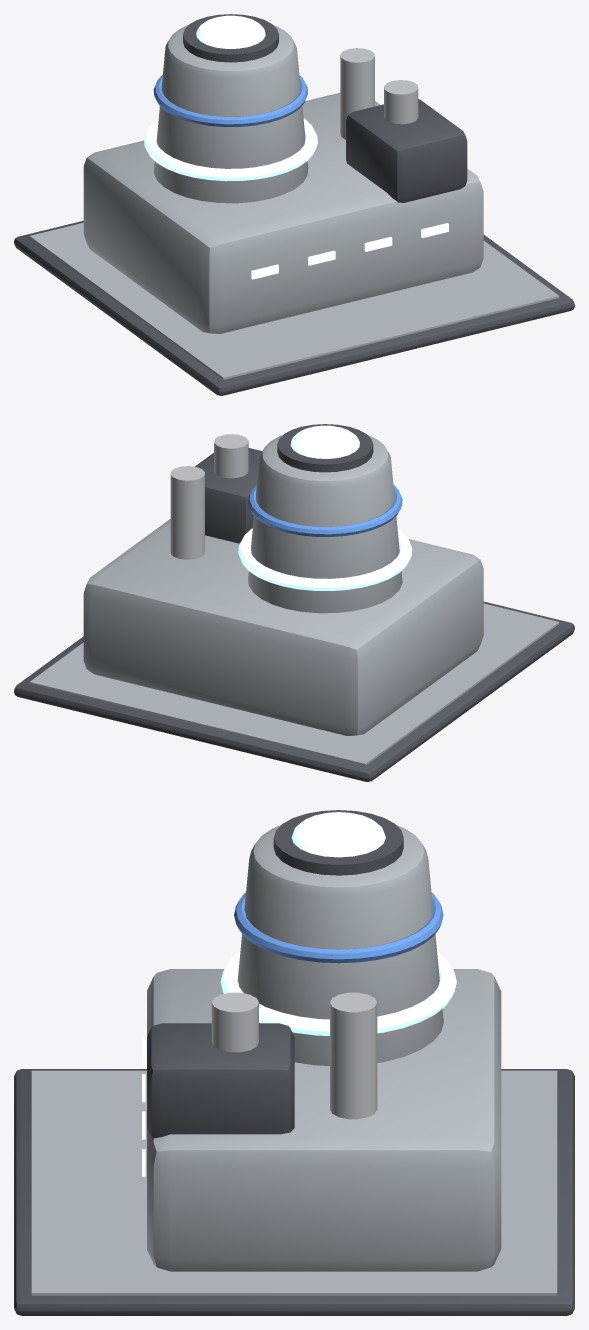
Rendered from power_hum.glb.
The picture shows the model from 3 angles, top to bottom: view 1: azimuth 30°, elevation 25°; view 2: azimuth 150°, elevation 25°; view 3: azimuth 270°, elevation 25°; orthographic projection. The views are drawn at different scales.
Visible parts, largest first — view 1: power_hum; view 2: power_hum; view 3: power_hum.
Part boxes in pixels (x1,y1,x2,y2): power_hum: (14, 14, 574, 395); power_hum: (14, 424, 574, 781); power_hum: (14, 810, 574, 1315).
Size of the model in its own units: 1.9 by 1.3 by 1.9.
